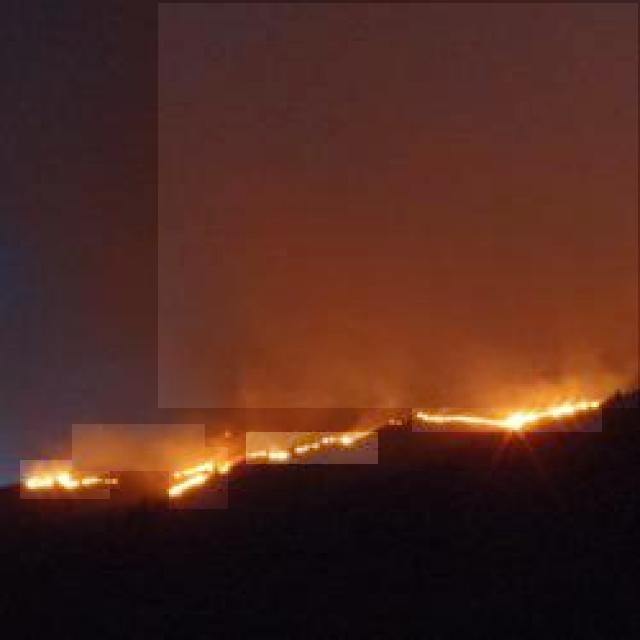Fire: (412, 396, 602, 432), (246, 432, 378, 464), (169, 447, 228, 509), (20, 460, 110, 499)
Smoke: (158, 3, 638, 408), (72, 424, 205, 471)
